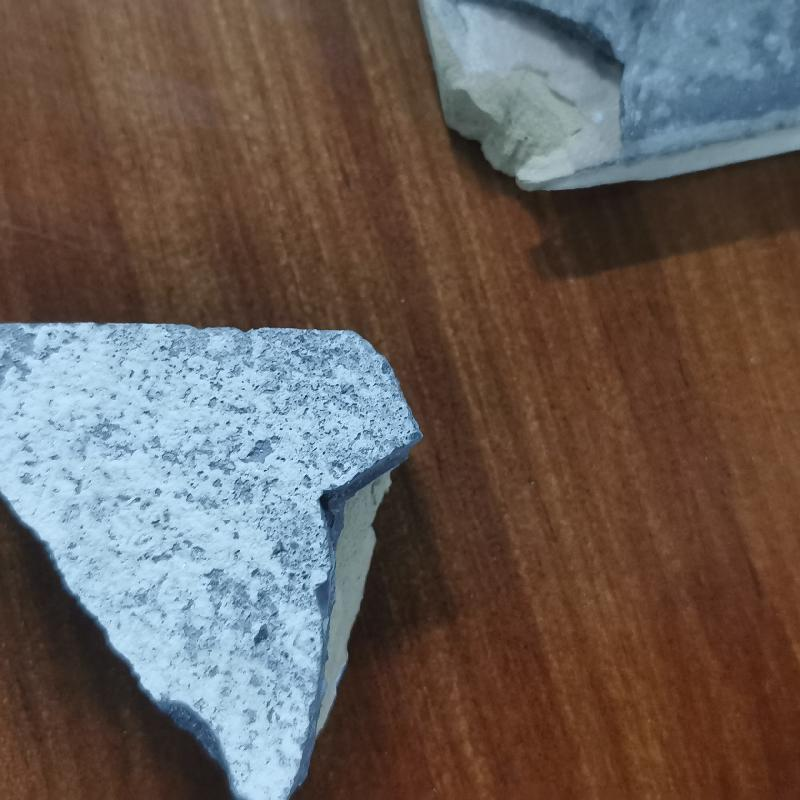tile: (5, 308, 413, 789)
